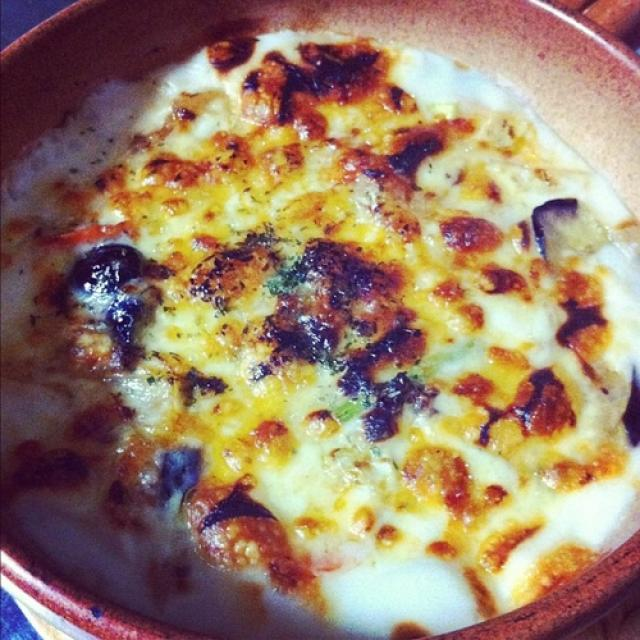米饭主食: (12, 35, 634, 604)
